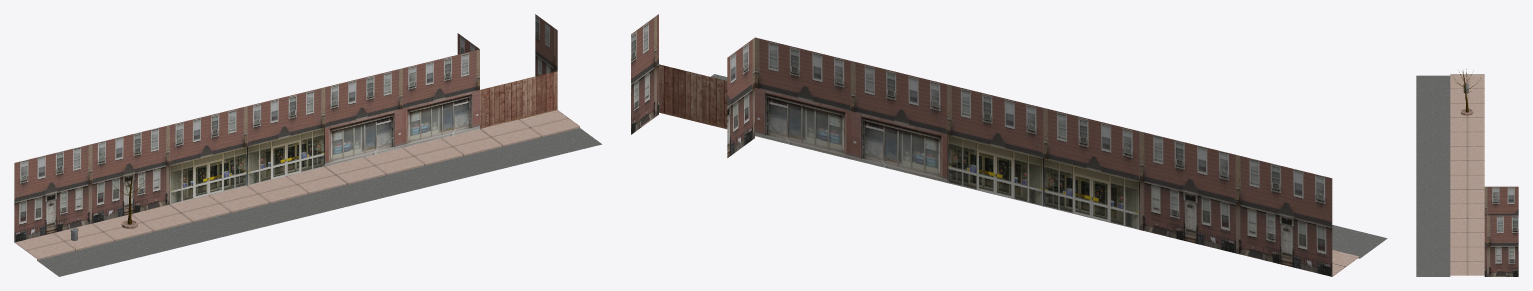
Rendered from homealone.FBX.
3 renders of one model, left to right at view 1: azimuth 30°, elevation 25°; view 2: azimuth 150°, elevation 25°; view 3: azimuth 270°, elevation 25°, orthographic. The views are drawn at different scales.
Parts seen in each view (by area): view 1: homealone02, homealone03, homealone01, homealone04; view 2: homealone01, homealone03, homealone02, homealone04; view 3: homealone04, homealone03, homealone02, homealone01, alone_tree.
Part boxes in pixels (bbox=[...]): homealone02: bbox=[169, 87, 369, 238]; homealone03: bbox=[325, 49, 524, 200]; homealone01: bbox=[14, 125, 213, 276]; homealone04: bbox=[457, 14, 602, 163]; homealone01: bbox=[1140, 131, 1387, 276]; homealone03: bbox=[755, 37, 947, 182]; homealone02: bbox=[947, 84, 1139, 229]; homealone04: bbox=[631, 14, 754, 157]; homealone04: bbox=[1416, 186, 1518, 276]; homealone03: bbox=[1416, 189, 1484, 248]; homealone02: bbox=[1416, 132, 1484, 190]; homealone01: bbox=[1416, 74, 1484, 133]; alone_tree: bbox=[1452, 69, 1480, 115].
Size of the model in its own units: 350 by 75 by 50.
